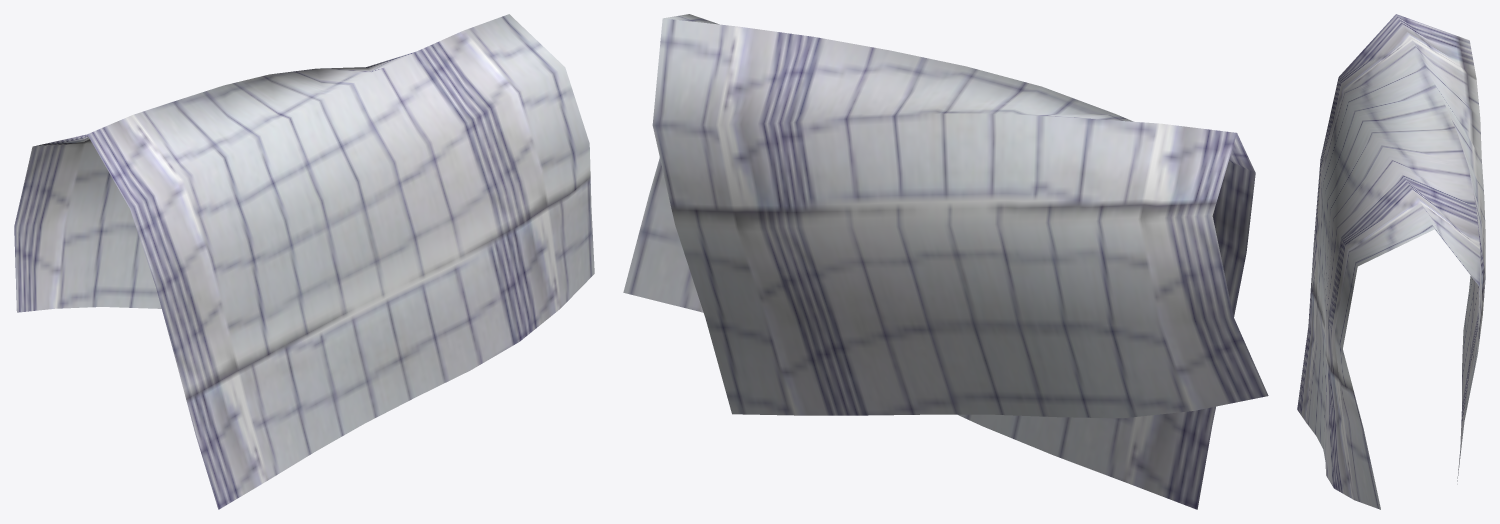
The model's file is K_Plate.glb.
3 renders of one model, left to right at view 1: azimuth 30°, elevation 25°; view 2: azimuth 150°, elevation 25°; view 3: azimuth 270°, elevation 25°, orthographic. The views are drawn at different scales.
Visible parts, largest first — view 1: Kitchen_Towel; view 2: Kitchen_Towel; view 3: Kitchen_Towel.
Part boxes in pixels (box(x1,y1,x2,y2)): Kitchen_Towel: box(14, 14, 594, 509); Kitchen_Towel: box(623, 14, 1268, 509); Kitchen_Towel: box(1297, 14, 1485, 509).
Size of the model in its own units: 0.568 by 0.356 by 0.1706.
1 material, 1 textured.
